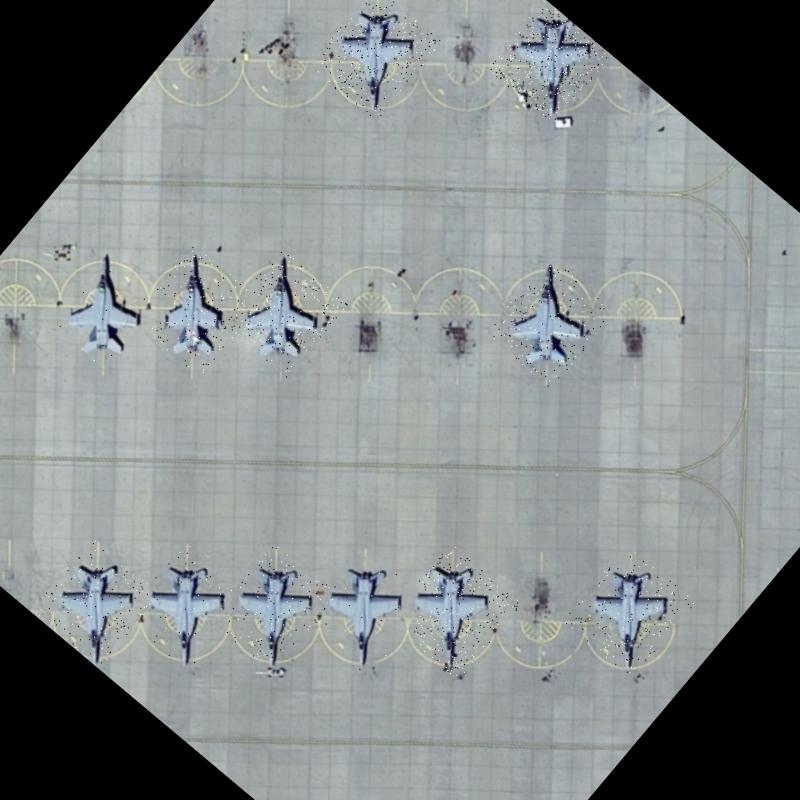A16: (117, 536, 255, 675), (385, 543, 522, 680), (296, 543, 432, 680), (128, 242, 263, 378), (561, 544, 695, 678), (38, 245, 172, 379), (483, 254, 616, 389), (208, 541, 338, 674), (30, 538, 160, 668), (219, 248, 348, 377), (307, 0, 442, 122), (485, 0, 611, 124)
